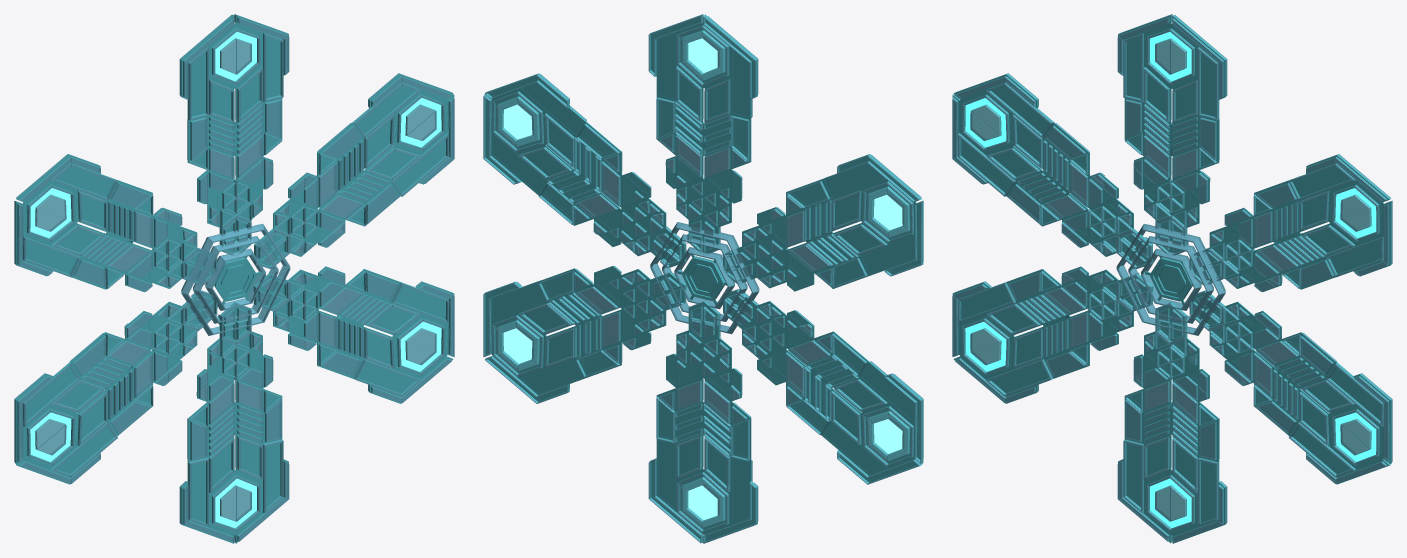
The model's file is snowflake.glb.
3 views of the same model, side by side, from view 1: azimuth 30°, elevation 25°; view 2: azimuth 150°, elevation 25°; view 3: azimuth 330°, elevation 25° (orthographic).
Visible parts, largest first — view 1: NGon004_01 - Default_0, Object001_02 - Default_0, RINGS__0, Object002_03 - Default_0, NGon009, Shape001, NGon003; view 2: NGon004_01 - Default_0, Object001_02 - Default_0, Object002_03 - Default_0, RINGS__0, NGon003, Shape001, NGon009; view 3: NGon004_01 - Default_0, Object001_02 - Default_0, RINGS__0, Object002_03 - Default_0, NGon009, Shape001, NGon003.
Boxes of the visible parts, <box> form: NGon004_01 - Default_0: <box>15,14,454,543</box>; Object001_02 - Default_0: <box>14,14,454,542</box>; RINGS__0: <box>30,31,441,528</box>; Object002_03 - Default_0: <box>36,39,434,519</box>; NGon009: <box>181,224,290,335</box>; Shape001: <box>214,256,261,305</box>; NGon003: <box>181,224,289,333</box>; NGon004_01 - Default_0: <box>484,14,923,542</box>; Object001_02 - Default_0: <box>483,15,923,543</box>; Object002_03 - Default_0: <box>503,38,902,520</box>; RINGS__0: <box>498,31,908,526</box>; NGon003: <box>650,222,759,334</box>; Shape001: <box>677,254,726,305</box>; NGon009: <box>652,222,759,331</box>; NGon004_01 - Default_0: <box>952,14,1391,543</box>; Object001_02 - Default_0: <box>952,14,1392,542</box>; RINGS__0: <box>965,32,1376,528</box>; Object002_03 - Default_0: <box>973,39,1370,519</box>; NGon009: <box>1116,224,1225,335</box>; Shape001: <box>1145,256,1192,305</box>; NGon003: <box>1119,224,1225,334</box>.
Bounding box in the file's own units: 262 × 301 × 6.44.
